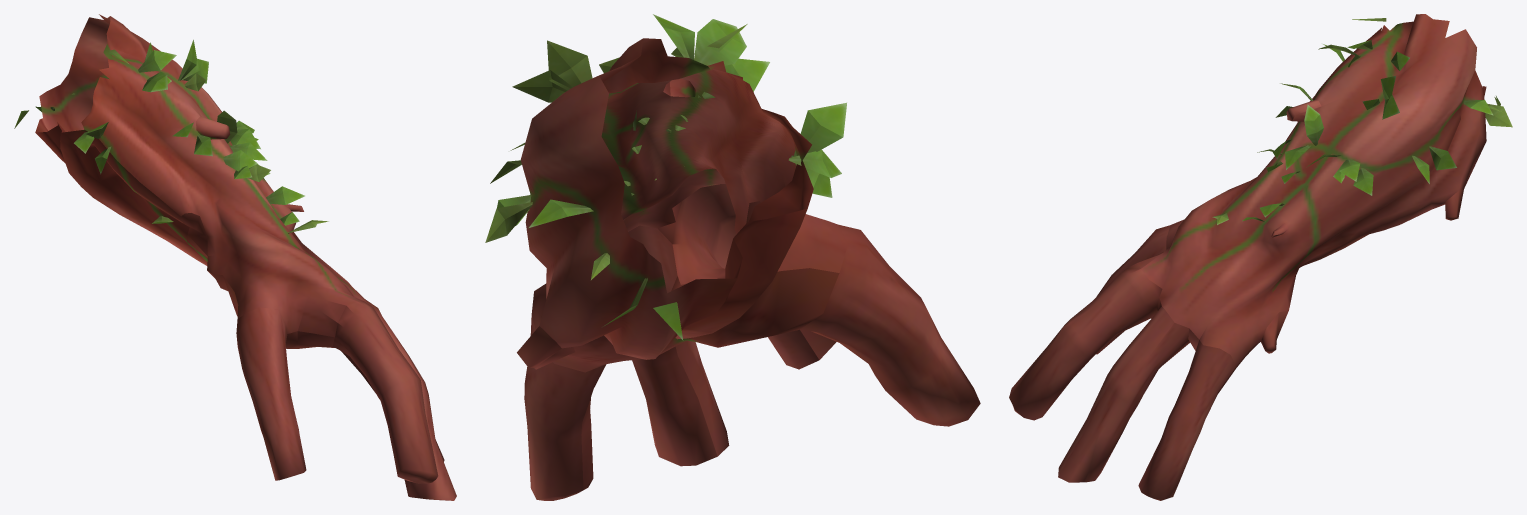
Rendered from torchwood_antebrazo_izq.obj.
3 views of the same model, side by side, from view 1: azimuth 30°, elevation 25°; view 2: azimuth 150°, elevation 25°; view 3: azimuth 270°, elevation 25° (orthographic). The views are drawn at different scales.
Visible parts, largest first — view 1: torchwood_antebrazo_izq; view 2: torchwood_antebrazo_izq; view 3: torchwood_antebrazo_izq.
Boxes of the visible parts, left/top/right/bottom form: torchwood_antebrazo_izq: left=14, top=14, right=456, bottom=500; torchwood_antebrazo_izq: left=485, top=14, right=980, bottom=500; torchwood_antebrazo_izq: left=1009, top=14, right=1512, bottom=500.
Size of the model in its own units: 0.7698 by 1.09 by 1.26.
